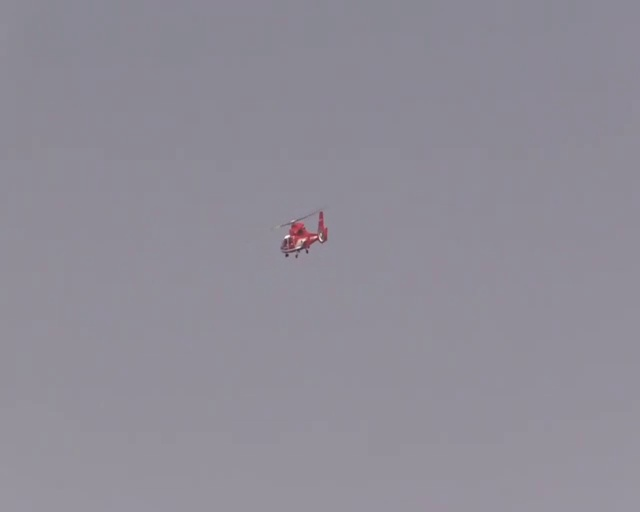HELICOPTER: (276, 207, 328, 257)
